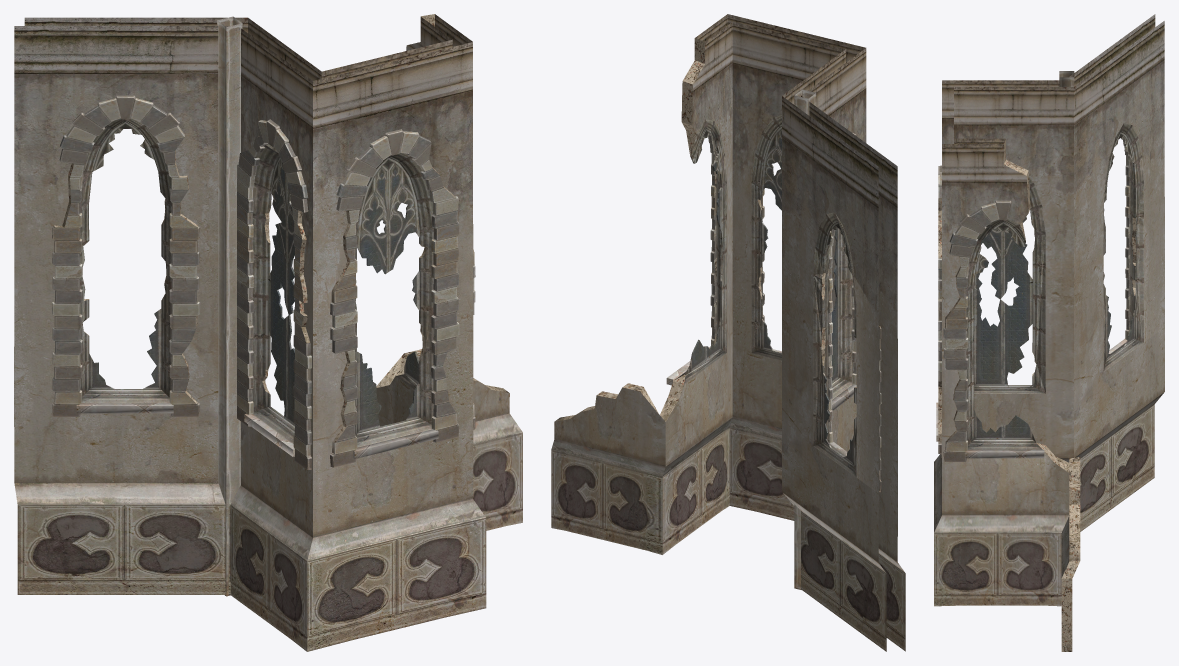
Rendered from bg_atm_runapass_churchwall02_sm_lkj.FBX.
3 views of the same model, side by side, from view 1: azimuth 30°, elevation 25°; view 2: azimuth 150°, elevation 25°; view 3: azimuth 270°, elevation 25° (orthographic). The views are drawn at different scales.
Visible parts, largest first — view 1: bg_atm_runapass_churchwall02_sm_lkj; view 2: bg_atm_runapass_churchwall02_sm_lkj; view 3: bg_atm_runapass_churchwall02_sm_lkj.
Part boxes in pixels (x1,y1,x2,y2): bg_atm_runapass_churchwall02_sm_lkj: [14, 14, 522, 651]; bg_atm_runapass_churchwall02_sm_lkj: [551, 14, 905, 651]; bg_atm_runapass_churchwall02_sm_lkj: [934, 14, 1164, 651].
Bounding box in the file's own units: 608 × 729 × 330.
